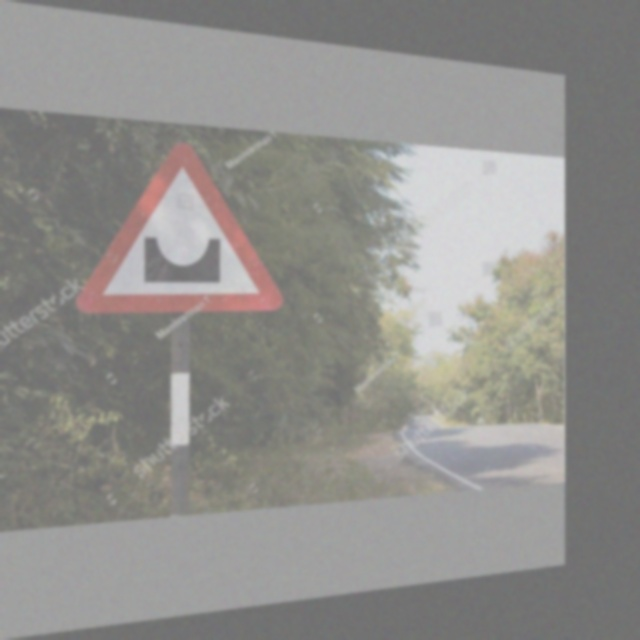Dangerous_Dip: (74, 136, 279, 311)
